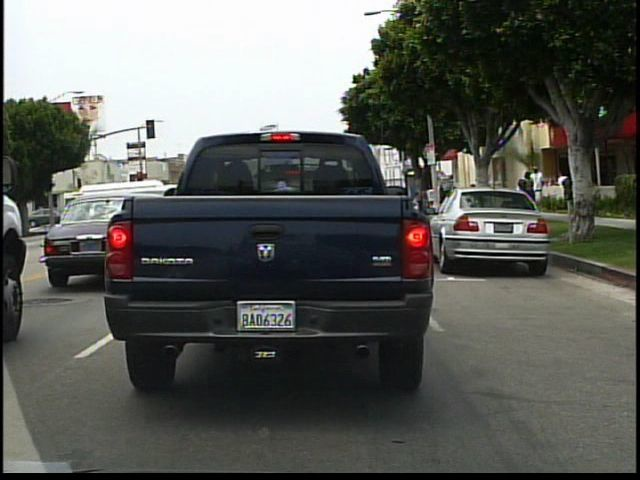person: (554, 167, 574, 214), (477, 174, 494, 216)
